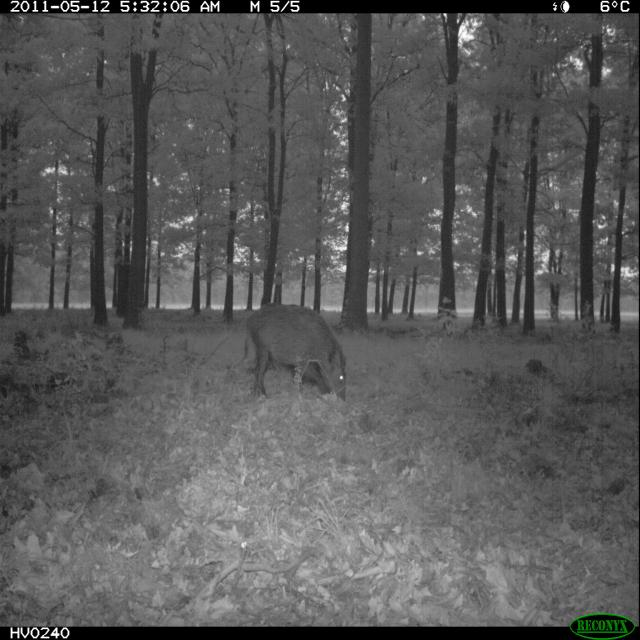boar: (225, 297, 362, 418)
